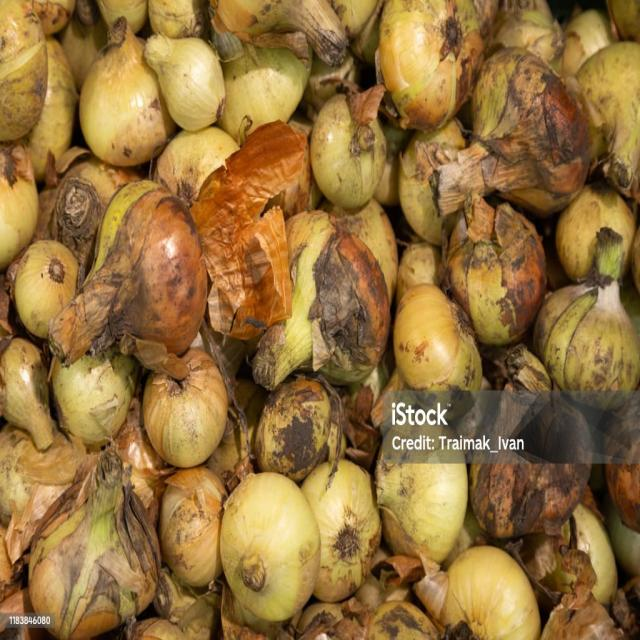rotten: (27, 441, 162, 635), (455, 47, 589, 214), (532, 230, 638, 389), (247, 212, 341, 389), (443, 197, 549, 346), (218, 472, 320, 625), (78, 16, 175, 169), (303, 222, 392, 381), (377, 1, 477, 133), (300, 458, 382, 601), (377, 443, 469, 568), (141, 348, 229, 466), (468, 456, 588, 541), (310, 84, 390, 210), (434, 545, 542, 638), (392, 284, 482, 392), (253, 374, 339, 485), (49, 342, 140, 446), (218, 41, 308, 142), (157, 466, 229, 590), (396, 121, 466, 246), (0, 423, 81, 530), (144, 30, 227, 133), (120, 235, 229, 313), (18, 39, 78, 180), (52, 153, 140, 249), (556, 181, 635, 284), (89, 178, 164, 282), (26, 530, 98, 636), (513, 390, 596, 476), (11, 240, 80, 343), (0, 0, 49, 142), (154, 126, 240, 206), (112, 402, 174, 509), (0, 336, 58, 450), (555, 501, 619, 604), (486, 3, 565, 76), (381, 388, 464, 455), (0, 137, 39, 268), (271, 126, 315, 215), (514, 530, 572, 597), (304, 47, 358, 117), (560, 7, 613, 78), (61, 5, 106, 87), (326, 1, 385, 63), (339, 388, 383, 471), (284, 209, 334, 275), (364, 597, 442, 639), (377, 502, 421, 566), (396, 240, 438, 304), (145, 0, 209, 39), (94, 0, 148, 37)
